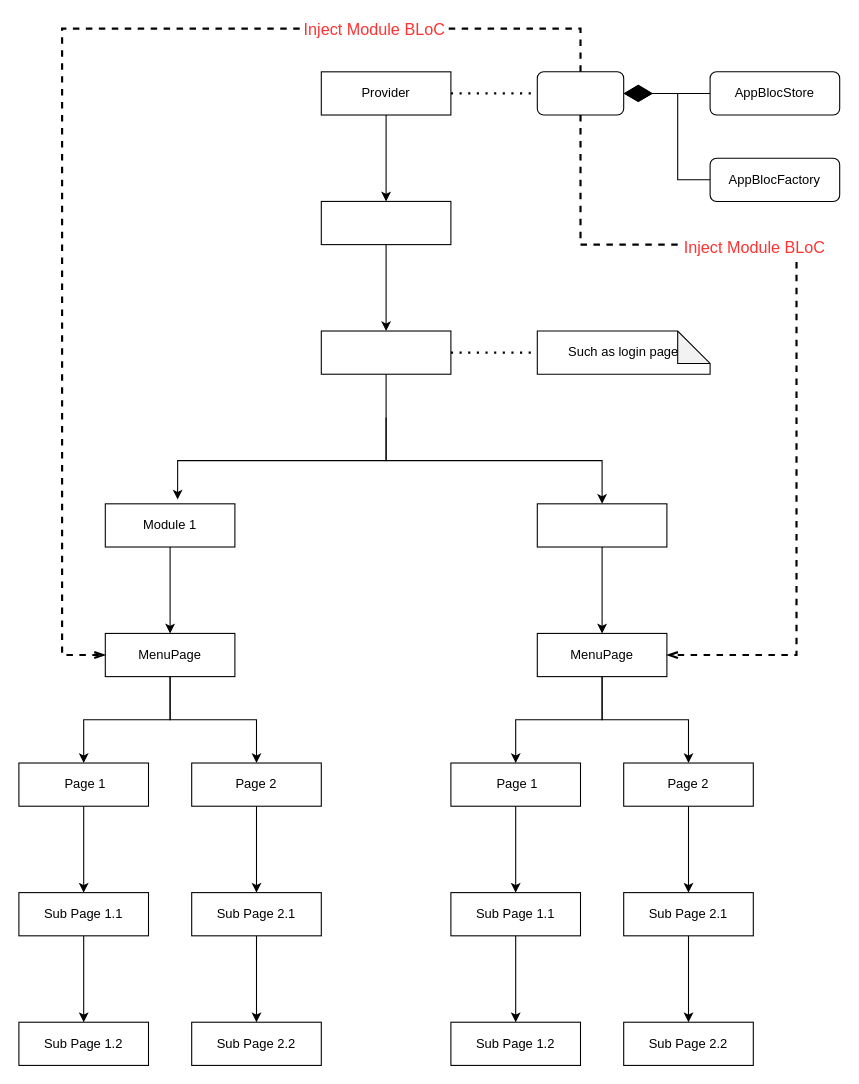
Some shapes in this 859 by 1084 pixel diagram are drawn without their labels. The shapes that lost their labels are listed below. From the top down, each one's box as (x1, y1, x2, y2) in pixels, then its label:
(536, 71, 624, 115): AppBloc
(320, 200, 451, 245): App
(320, 330, 451, 374): AppInitPage
(536, 503, 667, 547): Module N
